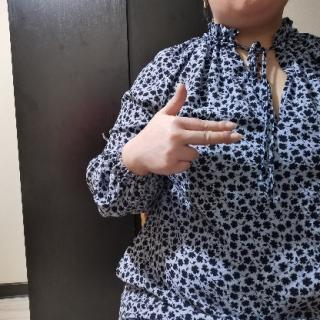GHAYN: (132, 84, 245, 178)
